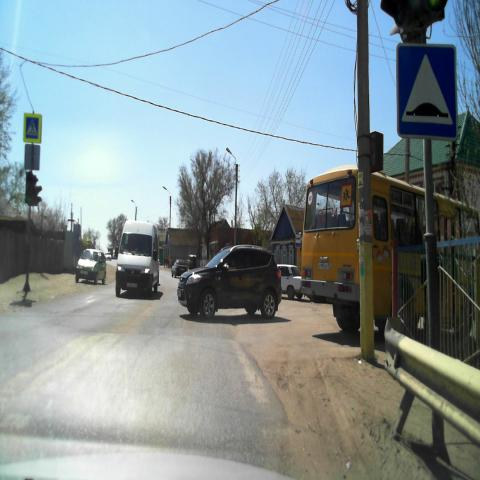5_19_1: (24, 112, 41, 140)
